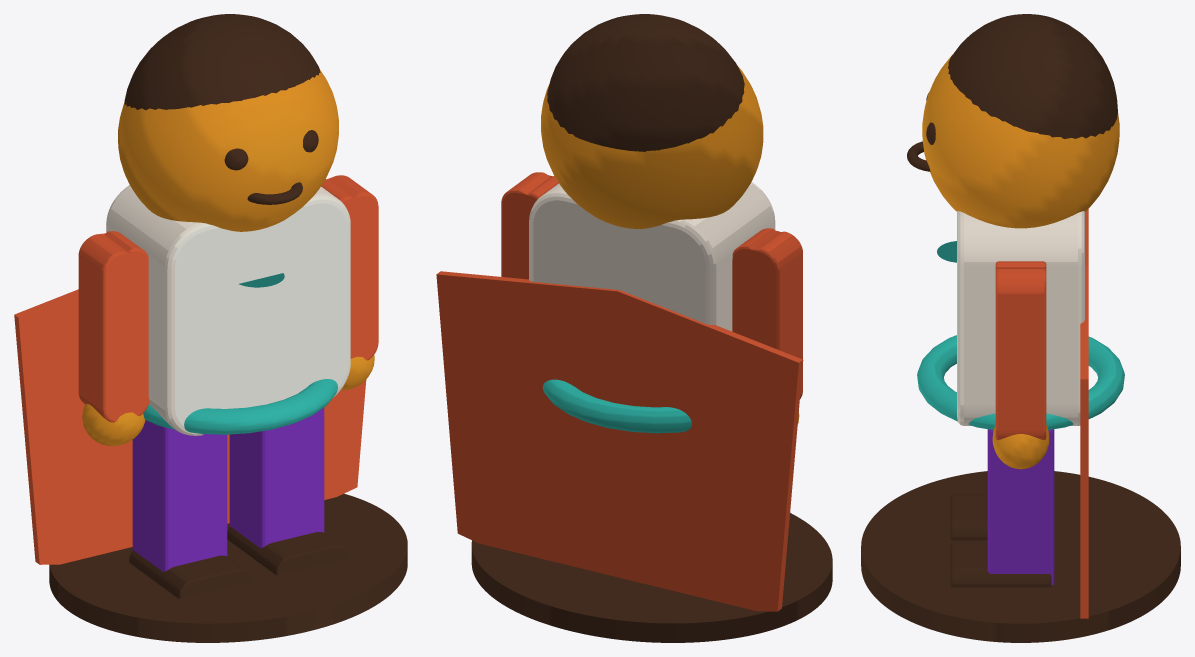
The model's file is 1077_古文观止_魏征.glb.
3 views of the same model, side by side, from view 1: azimuth 30°, elevation 25°; view 2: azimuth 150°, elevation 25°; view 3: azimuth 270°, elevation 25° (orthographic).
Visible parts, largest first — view 1: card_1077; view 2: card_1077; view 3: card_1077.
Part boxes in pixels (x1,y1,x2,y2): card_1077: [14, 14, 407, 642]; card_1077: [436, 14, 832, 642]; card_1077: [861, 14, 1180, 642].
Size of the model in its own units: 0.6739 by 1 by 0.5237.
